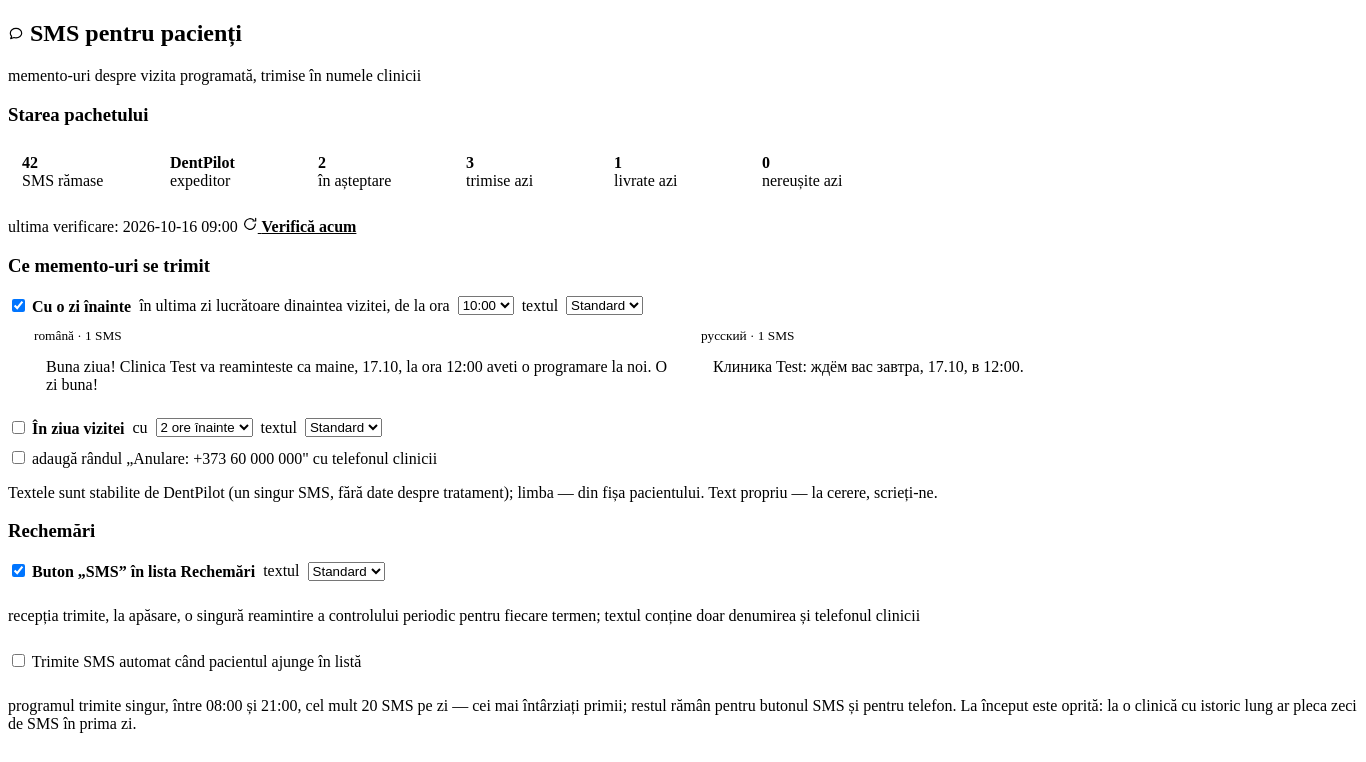
Test: SmsSettingsScreen › Rechemări (30.10): галочка «Buton SMS» включена, предпросмотр без услуги; снятие шлёт полную форму
Check: the text "42" is shown, box top-left (22, 154), bottom-right (38, 171)
Check: the checkbox labelled "Trimite SMS automat când pacientul ajunge în listă" is not checked, box top-left (12, 654), bottom-right (25, 667)
Click the checkbox labelled "Buton „SMS” în lista Rechemări" at (18, 571), box top-left (12, 564), bottom-right (25, 577)
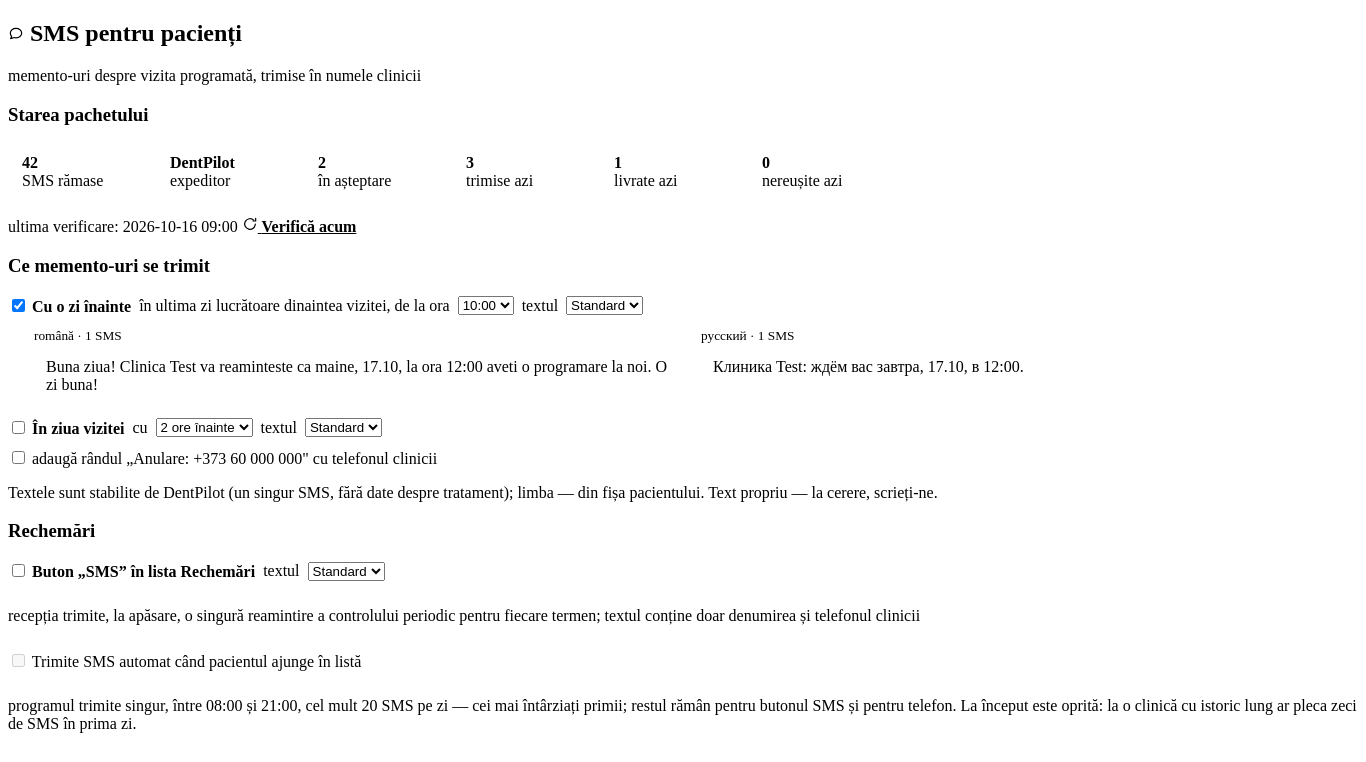
Check: the checkbox labelled "Trimite SMS automat când pacientul ajunge în listă" is disabled, box top-left (12, 654), bottom-right (25, 667)
